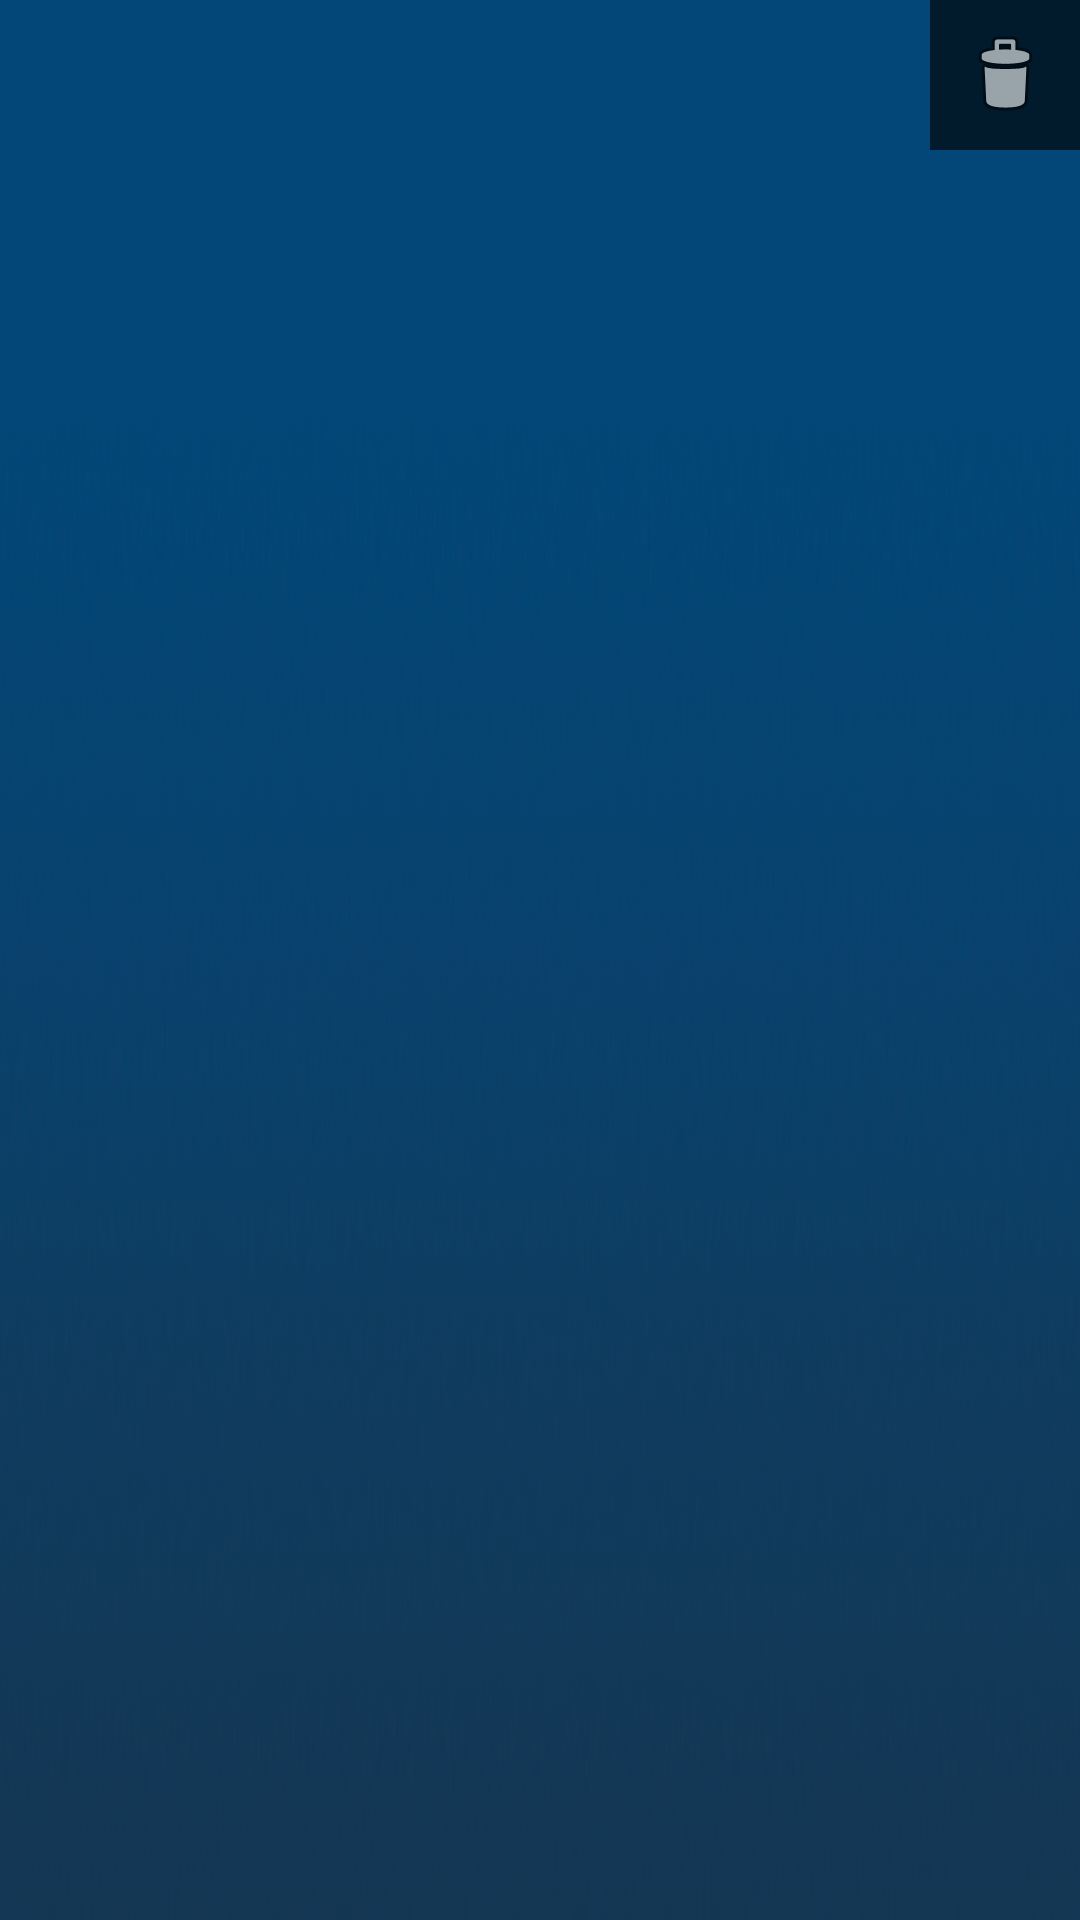

Icons on this 1080 x 1920 Android screen, each with its box as (x1, y1, x2, y2):
delete: (930, 0, 1080, 150)
